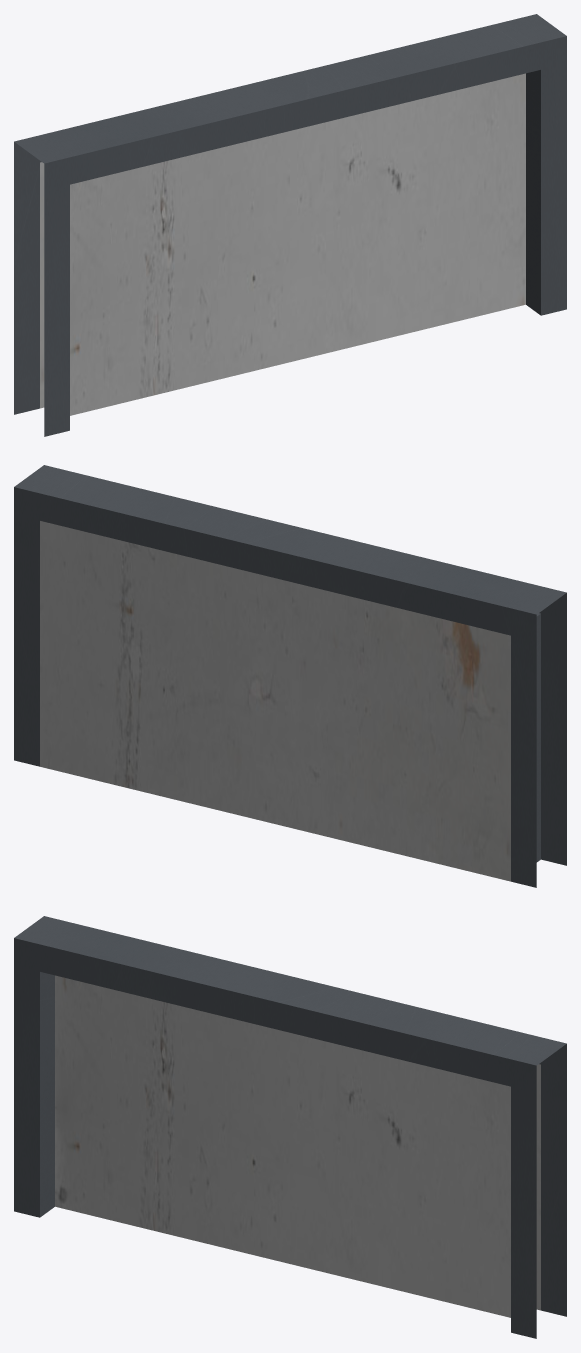
Rendered from WallMid.glb.
The picture shows the model from 3 angles, top to bottom: view 1: azimuth 30°, elevation 25°; view 2: azimuth 150°, elevation 25°; view 3: azimuth 330°, elevation 25°; orthographic projection.
Parts seen in each view (by area): view 1: WallMid; view 2: WallMid; view 3: WallMid.
Part boxes in pixels (box(x1,y1,x2,y2)): WallMid: box(14, 14, 566, 436); WallMid: box(14, 465, 566, 887); WallMid: box(14, 916, 566, 1338).
Size of the model in its own units: 8 by 4 by 0.7999.
2 materials, 2 textured.
